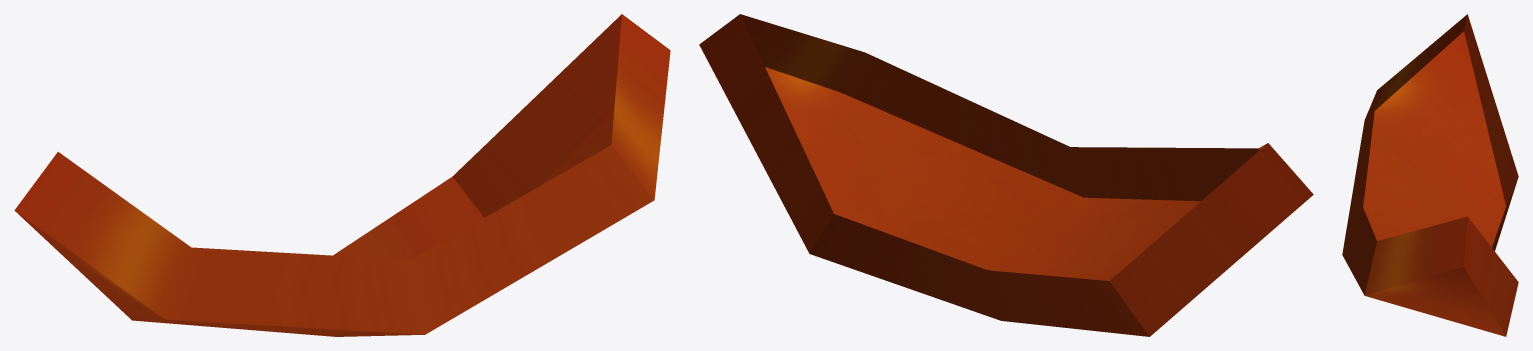
The model's file is tempJaw.fbx.
3 views of the same model, side by side, from view 1: azimuth 30°, elevation 25°; view 2: azimuth 150°, elevation 25°; view 3: azimuth 270°, elevation 25° (orthographic). The views are drawn at different scales.
Parts seen in each view (by area): view 1: polySurface22; view 2: polySurface22; view 3: polySurface22.
Part boxes in pixels (x1,y1,x2,y2): polySurface22: (14,14,670,336); polySurface22: (699,14,1313,336); polySurface22: (1342,14,1518,336).
Bounding box in the file's own units: 1.67 × 0.6227 × 0.5274.
Materials: 1 (1 with a texture image).
